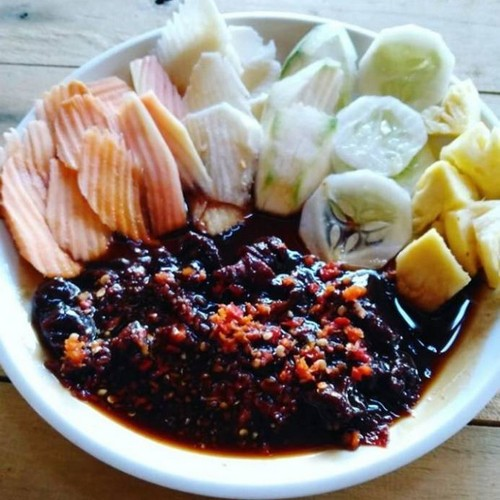rujak buleleng: (36, 87, 446, 417)
